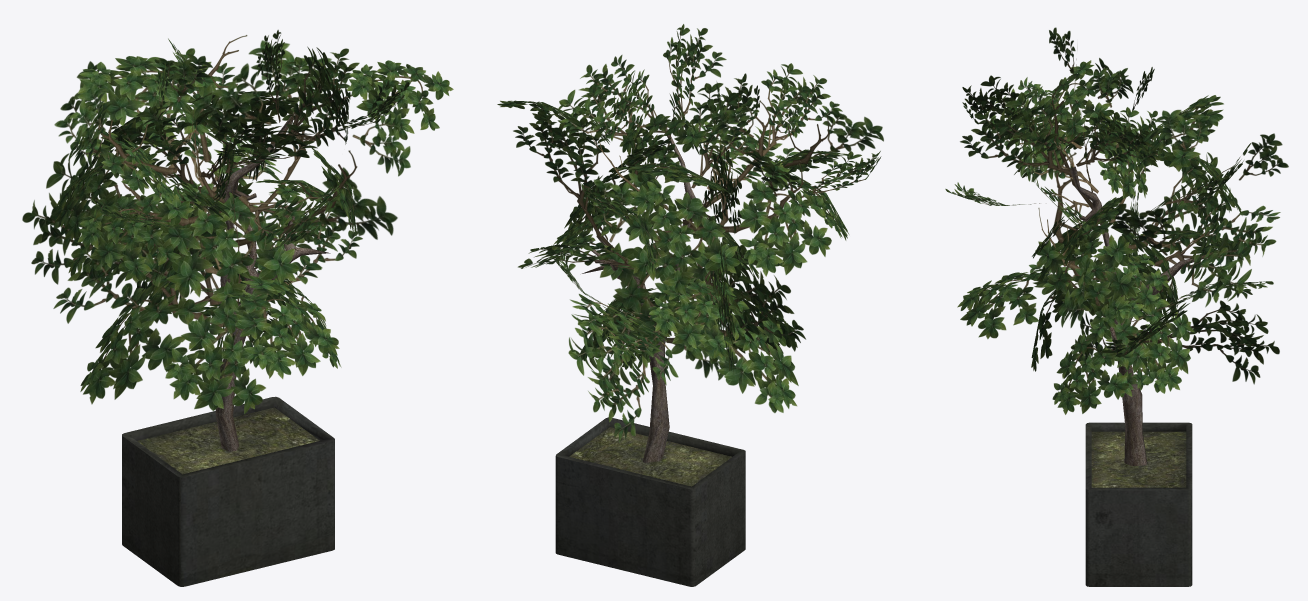
File: Planter_Square.glb
The picture shows the model from 3 angles, left to right: view 1: azimuth 30°, elevation 25°; view 2: azimuth 150°, elevation 25°; view 3: azimuth 270°, elevation 25°; orthographic projection. The views are drawn at different scales.
Visible parts, largest first — view 1: Planter_Square__LOD3; view 2: Planter_Square__LOD3; view 3: Planter_Square__LOD3.
Boxes of the visible parts, x1,y1,x2,y2 form: Planter_Square__LOD3: (22, 30, 453, 586); Planter_Square__LOD3: (497, 24, 883, 586); Planter_Square__LOD3: (945, 27, 1288, 586).
Size of the model in its own units: 1.88 by 2.28 by 1.52.
1 material, 1 textured.
